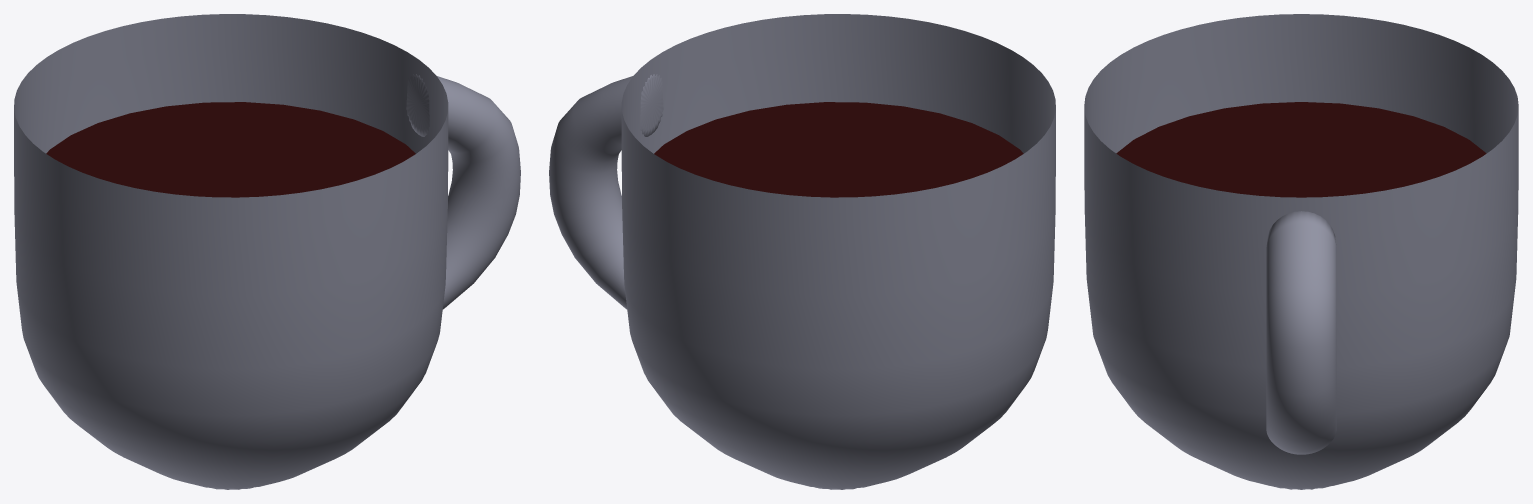
File: Tea.fbx
3 renders of one model, left to right at view 1: azimuth 30°, elevation 25°; view 2: azimuth 150°, elevation 25°; view 3: azimuth 270°, elevation 25°, orthographic.
Visible parts, largest first — view 1: Cylinder, Circle, Cylinder.001; view 2: Cylinder, Circle, Cylinder.001; view 3: Cylinder, Circle, Cylinder.001.
Boxes of the visible parts, bbox=[...] form: Cylinder: bbox=[14, 14, 448, 489]; Circle: bbox=[46, 102, 415, 197]; Cylinder.001: bbox=[406, 74, 520, 309]; Cylinder: bbox=[621, 14, 1055, 489]; Circle: bbox=[654, 102, 1023, 197]; Cylinder.001: bbox=[549, 74, 663, 309]; Cylinder: bbox=[1084, 14, 1518, 489]; Circle: bbox=[1116, 102, 1486, 197]; Cylinder.001: bbox=[1266, 211, 1336, 454].
Size of the model in its own units: 746 by 566 by 593.
